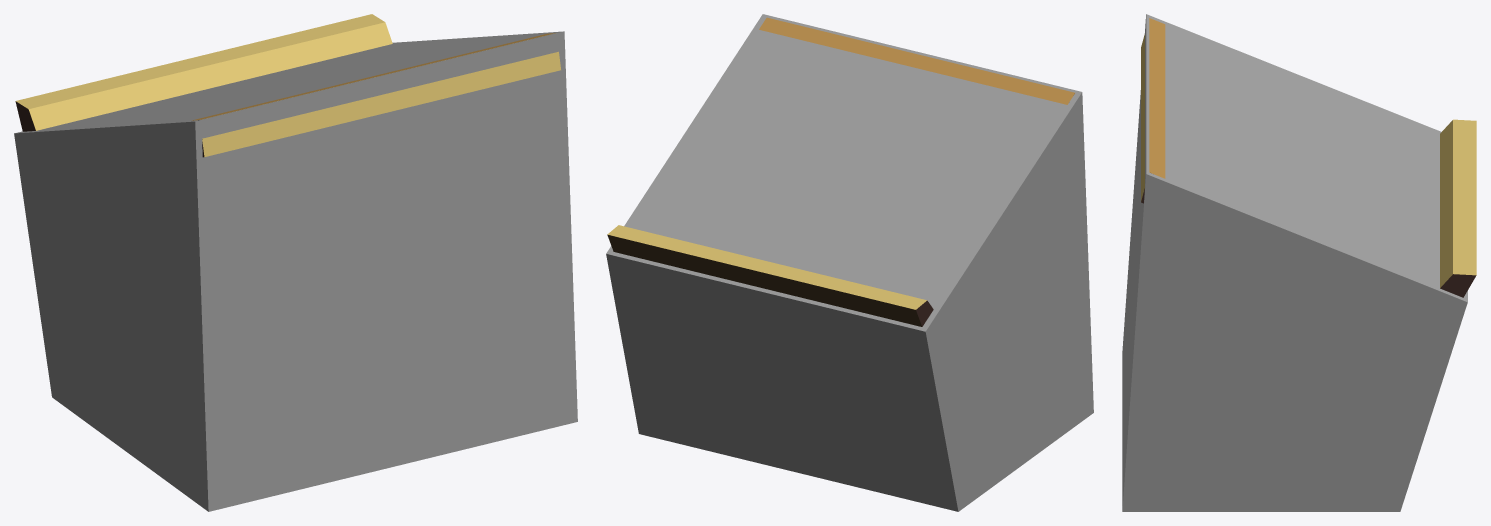
Rendered from FillyDesk.obj.
3 renders of one model, left to right at view 1: azimuth 30°, elevation 25°; view 2: azimuth 150°, elevation 25°; view 3: azimuth 270°, elevation 25°, orthographic. The views are drawn at different scales.
Parts seen in each view (by area): view 1: FillyDesk_phys_Cube.001, FillyDesk_idle_Cube; view 2: FillyDesk_phys_Cube.001, FillyDesk_idle_Cube; view 3: FillyDesk_phys_Cube.001, FillyDesk_idle_Cube.
Part boxes in pixels (x1,y1,x2,y2): FillyDesk_phys_Cube.001: (14, 31, 577, 511); FillyDesk_idle_Cube: (15, 14, 560, 157); FillyDesk_phys_Cube.001: (606, 14, 1093, 511); FillyDesk_idle_Cube: (607, 17, 1074, 326); FillyDesk_phys_Cube.001: (1122, 14, 1467, 511); FillyDesk_idle_Cube: (1141, 18, 1476, 297).
Bounding box in the file's own units: 6.6 × 6.5 × 6.17.
